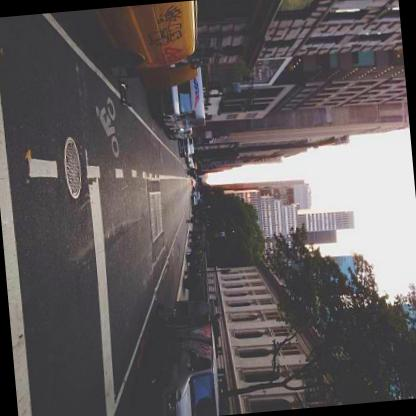manholes: (52, 130, 90, 208)
